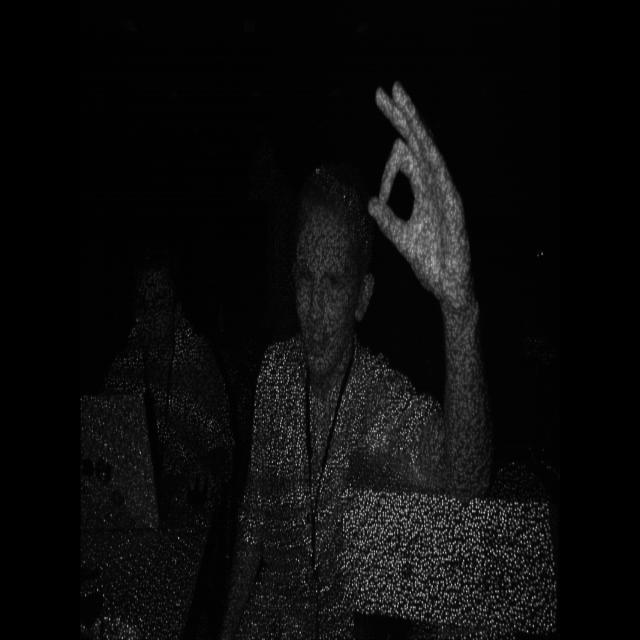F: (358, 70, 474, 306)
